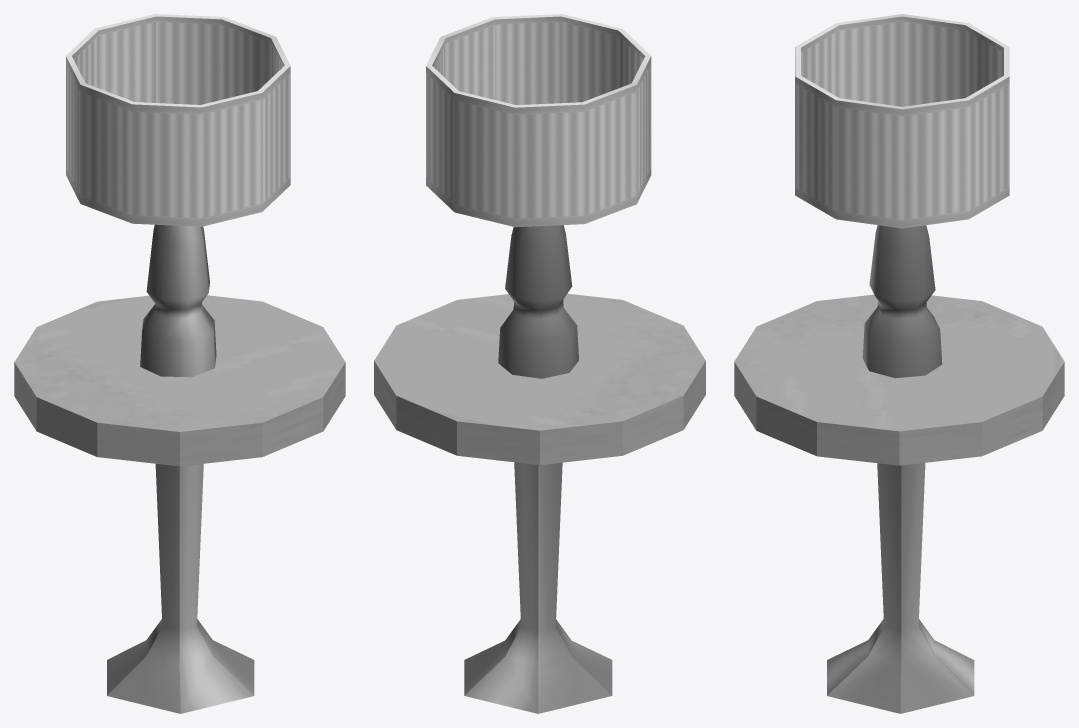
File: S_Deco_Lamp_01.fbx
3 renders of one model, left to right at view 1: azimuth 30°, elevation 25°; view 2: azimuth 150°, elevation 25°; view 3: azimuth 270°, elevation 25°, orthographic.
Parts seen in each view (by area): view 1: S_Deco_Lamp_01; view 2: S_Deco_Lamp_01; view 3: S_Deco_Lamp_01.
Boxes of the visible parts, x1,y1,x2,y2 form: S_Deco_Lamp_01: (14, 14, 345, 713); S_Deco_Lamp_01: (374, 14, 705, 713); S_Deco_Lamp_01: (734, 14, 1064, 713).
Bounding box in the file's own units: 0.8451 × 1.74 × 0.8451.
3 materials, 3 textured.
